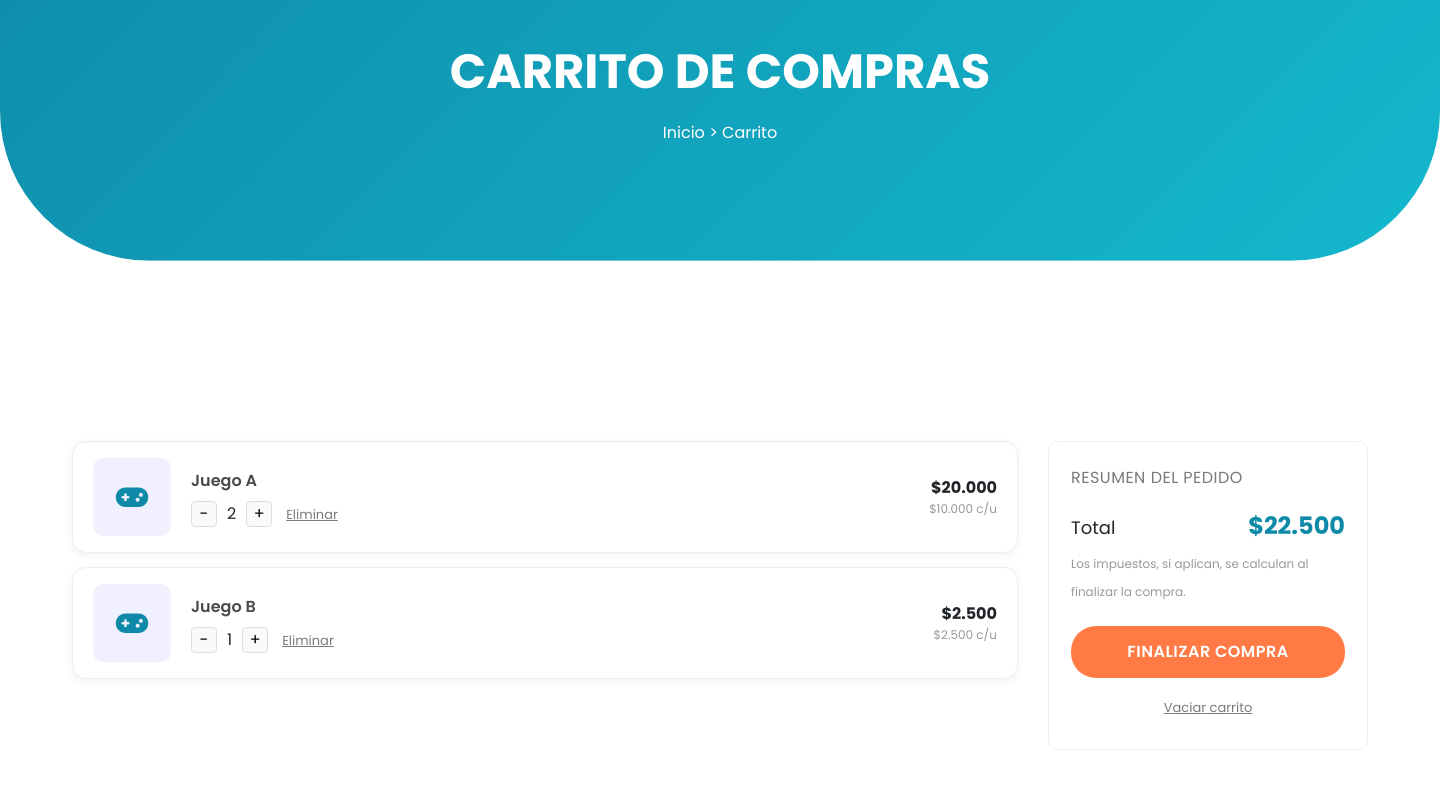
Test case: Página Carrito › Vaciar carrito deja el total en cero
(page scrolled)
Click the button "Vaciar carrito".
click(1208, 707)  # box x1=1071 y1=688 x2=1345 y2=727
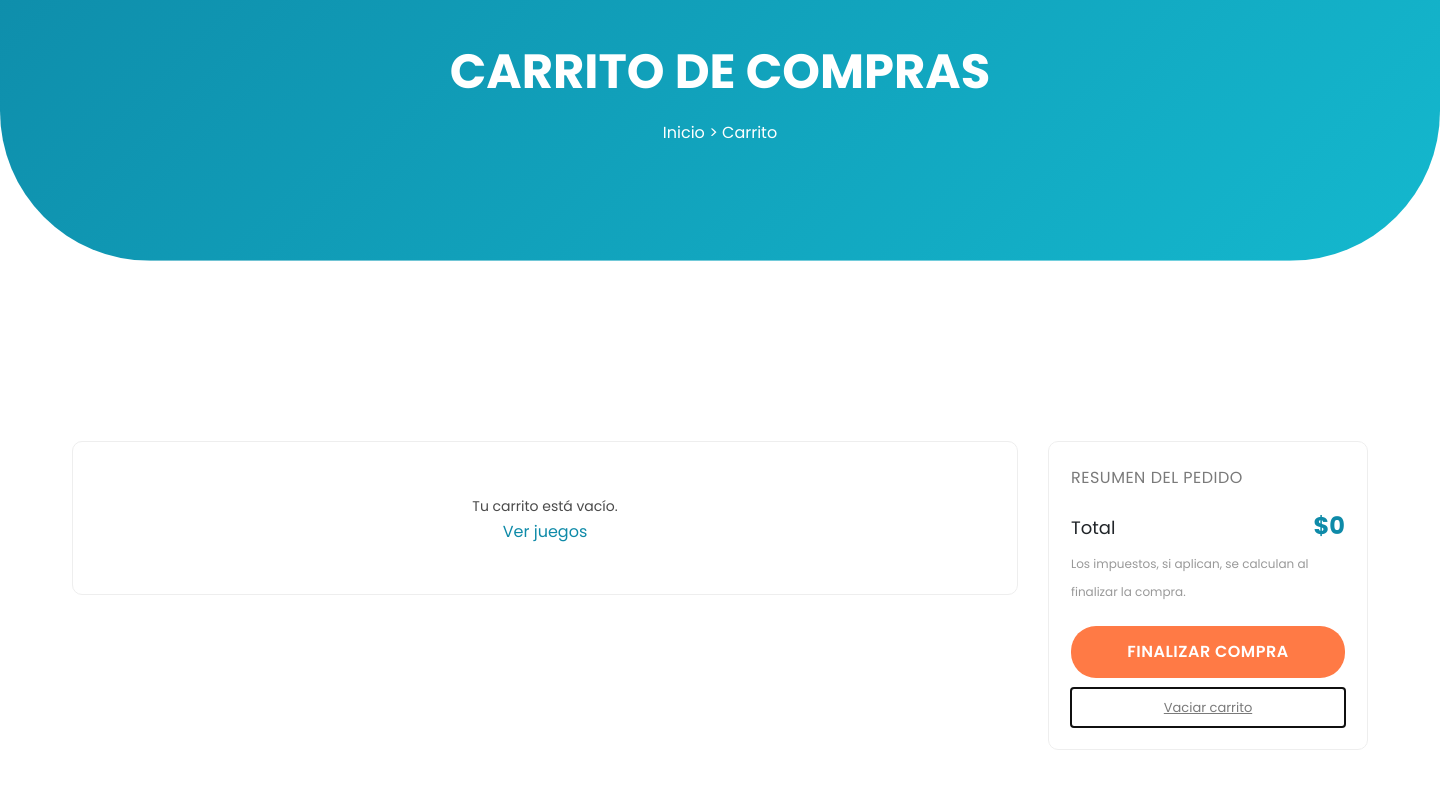
Expected: the text "$0" is shown, x1=1314 y1=508 x2=1345 y2=544
